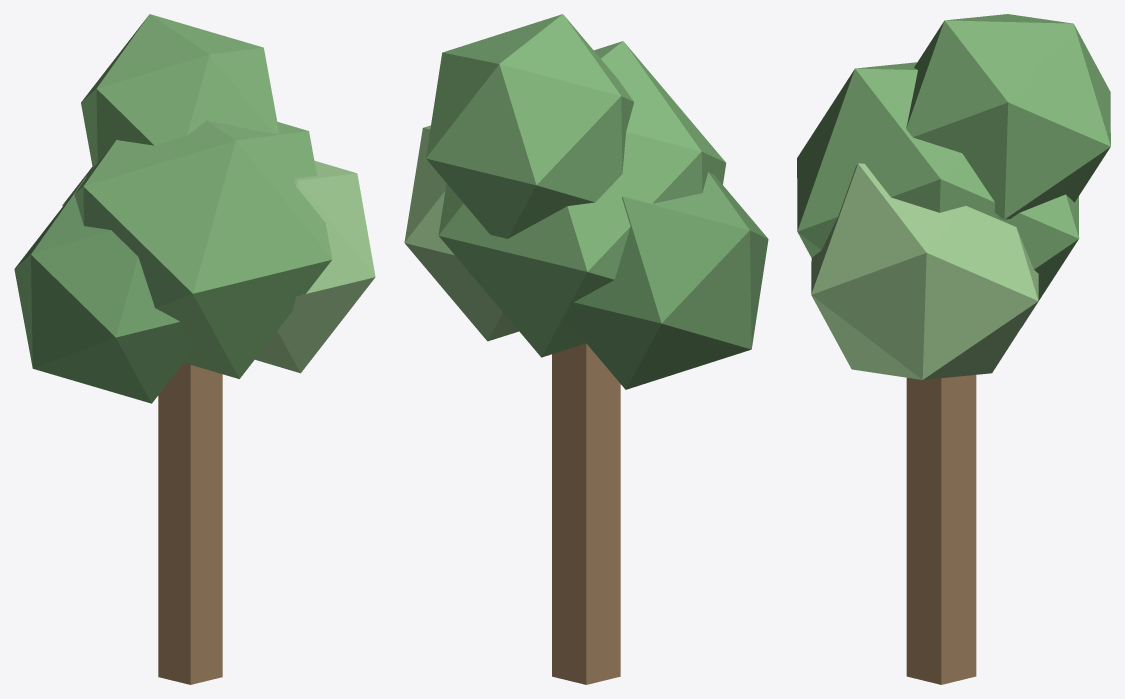
The model's file is animprop_tree_03.glb.
3 renders of one model, left to right at view 1: azimuth 30°, elevation 25°; view 2: azimuth 150°, elevation 25°; view 3: azimuth 270°, elevation 25°, orthographic. The views are drawn at different scales.
Parts seen in each view (by area): view 1: animprop; view 2: animprop; view 3: animprop.
Boxes of the visible parts, x1,y1,x2,y2 form: animprop: (14, 14, 375, 684); animprop: (404, 14, 768, 684); animprop: (797, 14, 1110, 684).
Size of the model in its own units: 1.48 by 2.72 by 1.17.
